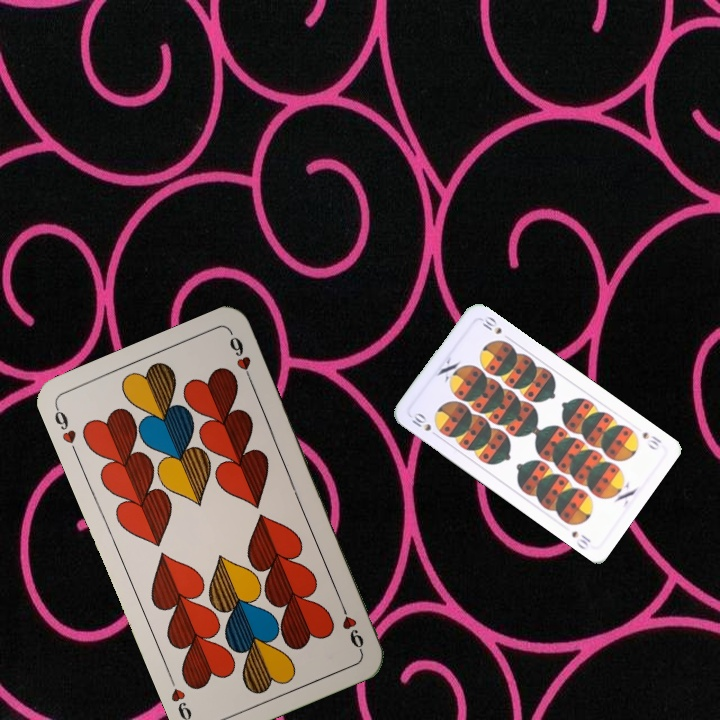H9: (336, 597, 367, 654), (50, 403, 81, 459)
S10: (406, 409, 442, 440), (638, 428, 664, 453)
